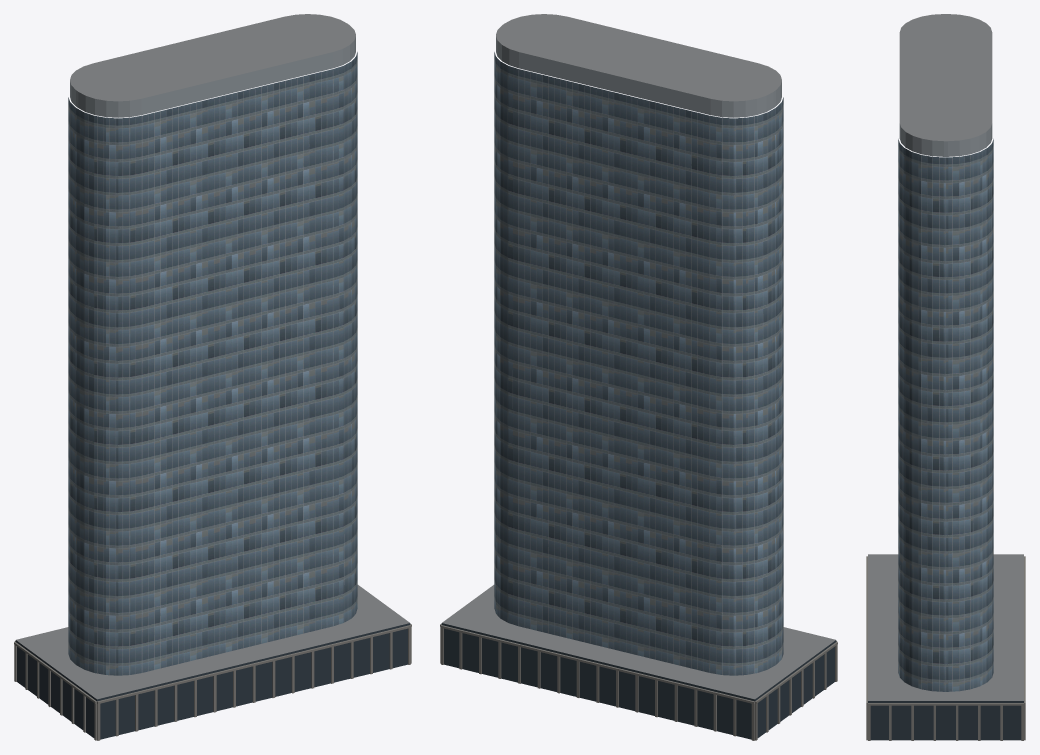
The model's file is hyatt_regency.glb.
The picture shows the model from 3 angles, left to right: view 1: azimuth 30°, elevation 25°; view 2: azimuth 150°, elevation 25°; view 3: azimuth 270°, elevation 25°; orthographic projection. The views are drawn at different scales.
Visible parts, largest first — view 1: hyatt_regency; view 2: hyatt_regency; view 3: hyatt_regency.
Part boxes in pixels (x1=…): hyatt_regency: x1=14, y1=14, x2=411, y2=740; hyatt_regency: x1=440, y1=14, x2=837, y2=740; hyatt_regency: x1=866, y1=14, x2=1025, y2=740.
Bounding box in the file's own units: 80.8 × 150 × 36.81.
2 materials, 2 textured.
